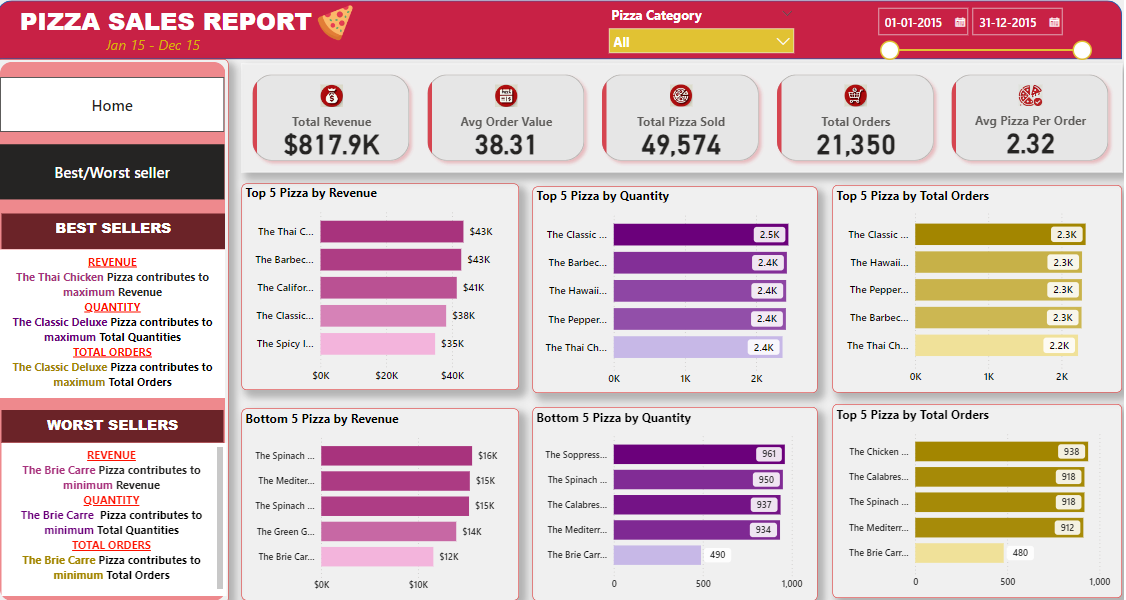

What the dashboard file says about the page in this screenshot:
{"tool":"powerbi","page":{"name":"Best/Worst seller","canvas":[1505,820],"ordinal":1},"visuals":[{"type":"shape","box":[0,13.7,1500,78.4],"z":0},{"type":"textbox","box":[0,12.9,450.4,57.2],"z":1000},{"type":"textbox","box":[139.2,54.9,164.7,43.1],"z":2000},{"type":"image","box":[413.5,14.8,73.8,59.1],"z":3000},{"type":"shape","box":[325.2,258.7,370.3,275.3],"z":4000},{"type":"shape","box":[0,92.6,308.5,726.3],"z":5000},{"type":"textbox","box":[5.9,560.8,296.1,43.1],"z":6000},{"type":"textbox","box":[3.9,345.1,300,198],"z":7000},{"type":"textbox","box":[5.9,298,298,47.1],"z":8000},{"type":"textbox","box":[5.9,603.9,300,203.9],"z":9000},{"type":"slicer","fields":{"Values":["pizza_sales.pizza_category"]},"box":[806.7,15.6,266.7,75.6],"z":10000},{"type":"slicer","fields":{"Values":["pizza_sales.order_date"]},"box":[1163,14.2,306.2,80.7],"z":11000},{"type":"shape","box":[714.4,261.1,379.7,275.3],"z":12000},{"type":"shape","box":[1113.7,260.8,386.3,276.5],"z":13000},{"type":"shape","box":[325.2,557.8,370.3,256.3],"z":14000},{"type":"shape","box":[714.4,555.4,379.7,258.7],"z":15000},{"type":"shape","box":[1113.7,552.9,386.3,258.8],"z":16000},{"type":"barChart","title":"Top 5 Pizza by Revenue","fields":{"Category":["pizza_sales.pizza_name"],"Y":["_measures.Total Revenue"]},"box":[325,258.3,370,275],"z":17000},{"type":"barChart","title":"Top 5 Pizza by Quantity","fields":{"Category":["pizza_sales.pizza_name"],"Y":["_measures.Total Pizza Sold"]},"box":[714.4,261.1,379.7,275.3],"z":18000},{"type":"barChart","title":"Top 5 Pizza by Total Orders","fields":{"Category":["pizza_sales.pizza_name"],"Y":["_measures.Total Orders"]},"box":[1113.7,262.7,386.3,272.5],"z":19000},{"type":"barChart","title":"Bottom 5 Pizza by Revenue","fields":{"Category":["pizza_sales.pizza_name"],"Y":["_measures.Total Revenue"]},"box":[325.2,560.1,370.3,251.6],"z":20000},{"type":"barChart","title":"Bottom 5 Pizza by Quantity","fields":{"Category":["pizza_sales.pizza_name"],"Y":["_measures.Total Pizza Sold"]},"box":[714.4,557.8,379.7,251.6],"z":21000},{"type":"barChart","title":"Top 5 Pizza by Total Orders","fields":{"Category":["pizza_sales.pizza_name"],"Y":["_measures.Total Orders"]},"box":[1113.7,554.9,386.3,252.9],"z":22000},{"type":"pageNavigator","box":[4.7,116.3,299.1,73.6],"z":23000},{"type":"pageNavigator","box":[4.7,206.5,299.1,73.6],"z":24000},{"type":"cardVisual","fields":{"Data":["_measures.Total Revenue","_measures.Avg Order Value","_measures.Total Pizza Sold","_measures.Total Orders","_measures.Avg Pizza Per Order"]},"box":[325.5,98,1174.5,145.1],"z":25000}]}

Visuals, with their boxes in screenshot pixels (x1, y1, x2, y2), scaled from the page's 1505x820 canvas onto the 1126x600 screenshot:
shape: crop(0, 10, 1122, 67)
textbox: crop(0, 9, 337, 51)
textbox: crop(104, 40, 227, 72)
image: crop(309, 11, 365, 54)
shape: crop(243, 189, 520, 391)
shape: crop(0, 68, 231, 599)
textbox: crop(4, 410, 226, 442)
textbox: crop(3, 253, 227, 397)
textbox: crop(4, 218, 227, 253)
textbox: crop(4, 442, 229, 591)
slicer - pizza_sales.pizza_category: crop(604, 11, 803, 67)
slicer - pizza_sales.order_date: crop(870, 10, 1099, 69)
shape: crop(534, 191, 819, 392)
shape: crop(833, 191, 1122, 393)
shape: crop(243, 408, 520, 596)
shape: crop(534, 406, 819, 596)
shape: crop(833, 405, 1122, 594)
"Top 5 Pizza by Revenue" barChart: crop(243, 189, 520, 390)
"Top 5 Pizza by Quantity" barChart: crop(534, 191, 819, 392)
"Top 5 Pizza by Total Orders" barChart: crop(833, 192, 1122, 392)
"Bottom 5 Pizza by Revenue" barChart: crop(243, 410, 520, 594)
"Bottom 5 Pizza by Quantity" barChart: crop(534, 408, 819, 592)
"Top 5 Pizza by Total Orders" barChart: crop(833, 406, 1122, 591)
pageNavigator: crop(4, 85, 227, 139)
pageNavigator: crop(4, 151, 227, 205)
cardVisual - _measures.Total Revenue x _measures.Avg Order Value: crop(244, 72, 1122, 178)
